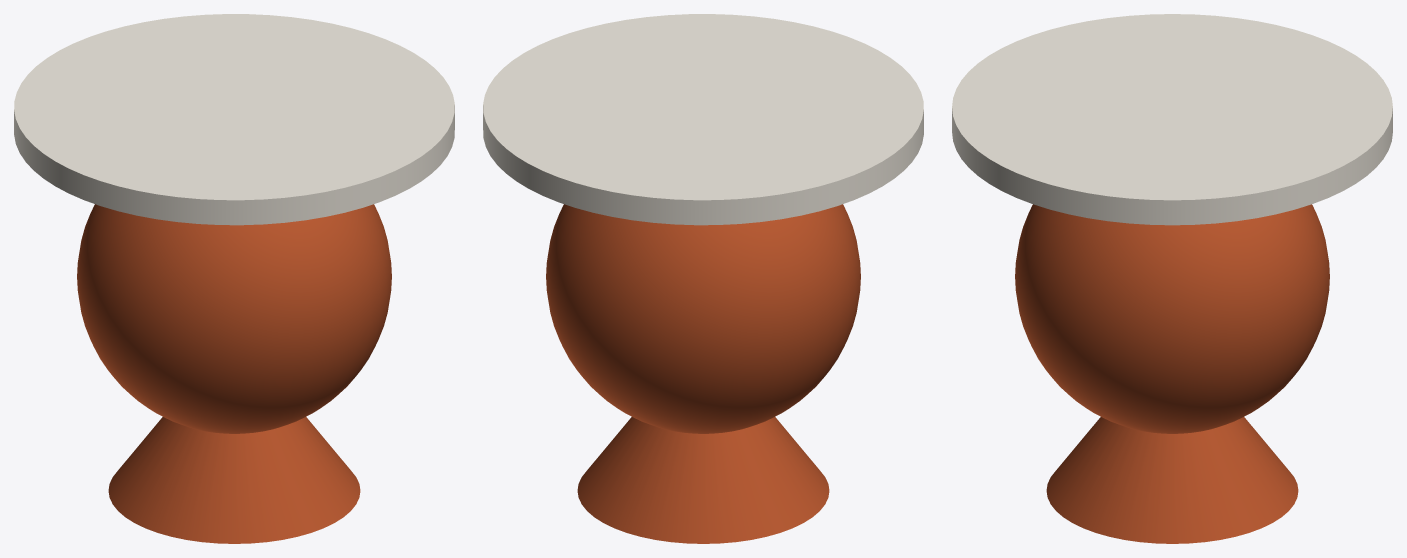
The model's file is orb-table.glb.
3 views of the same model, side by side, from view 1: azimuth 30°, elevation 25°; view 2: azimuth 150°, elevation 25°; view 3: azimuth 270°, elevation 25° (orthographic).
Visible parts, largest first — view 1: top, orb, foot; view 2: top, orb, foot; view 3: top, orb, foot.
Part boxes in pixels (x1,y1,x2,y2): top: (14,14,454,225); orb: (77,204,391,433); foot: (108,417,360,543); top: (483,14,923,225); orb: (546,204,860,433); foot: (577,417,829,543); top: (952,14,1392,225); orb: (1015,204,1329,433); foot: (1046,417,1298,543).
Bounding box in the file's own units: 0.56 × 0.5375 × 0.56.
